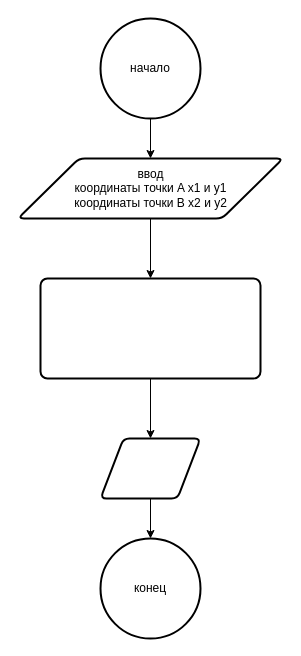
The diagram is 301 pixels wide and 656 high, and some of its shapes have lost their labels. Each missing label, with the box of its shape:
вывод k, b: (99, 437, 201, 499)
вычисление b и k k = (y1 — y2) / (x1 — x2) b = y2 — k * x2: (39, 277, 261, 379)
